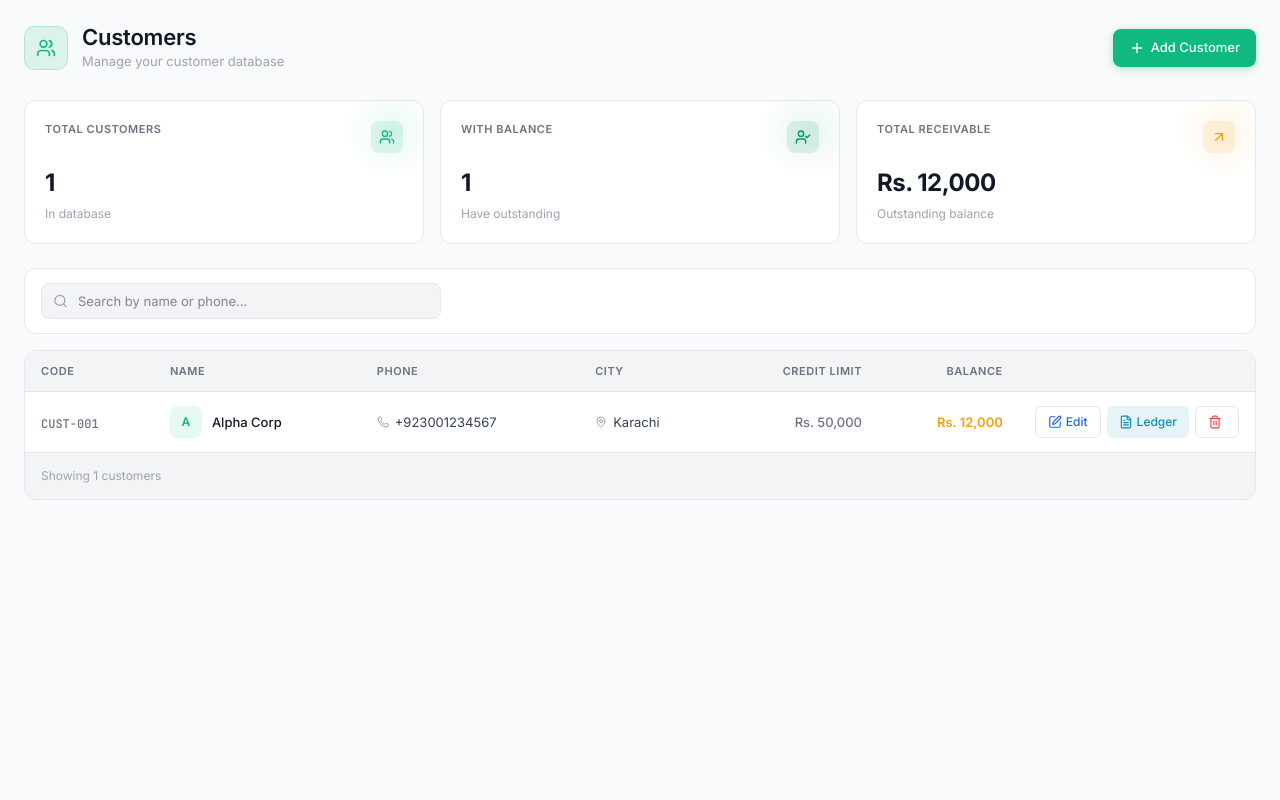
Test: Customers page › opens edit modal with customer data
This screenshot has width=1280, height=800.
Expected: the text "Alpha Corp" is shown, x1=212 y1=413 x2=282 y2=432
Click the button "Edit" at (1068, 422), box x1=1035 y1=406 x2=1101 y2=438
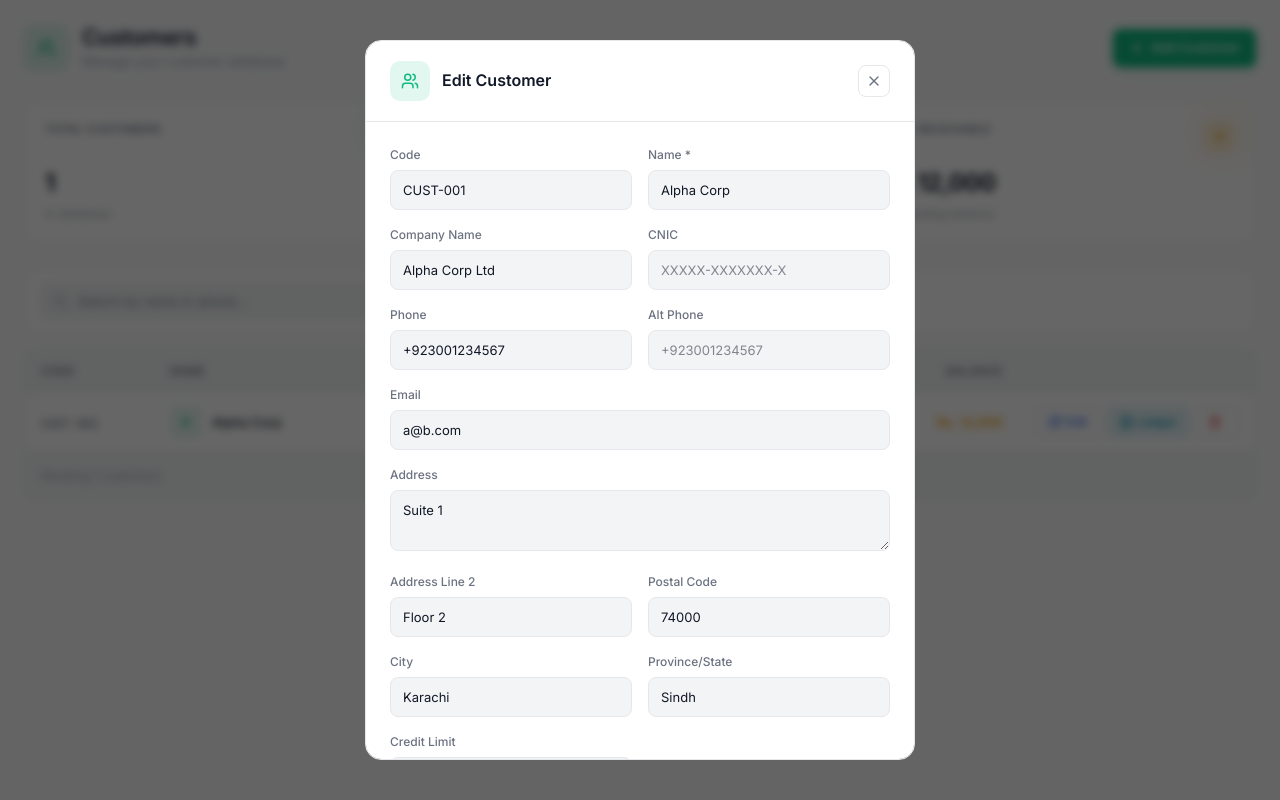
Expected: the heading "Edit Customer" is shown, x1=442 y1=71 x2=551 y2=91
Expected: the field showing "Alpha Corp" below "Name *" is shown, x1=648 y1=170 x2=890 y2=210
Expected: the field showing "+923001234567" below "Alt Phone" is shown, x1=390 y1=330 x2=632 y2=370
